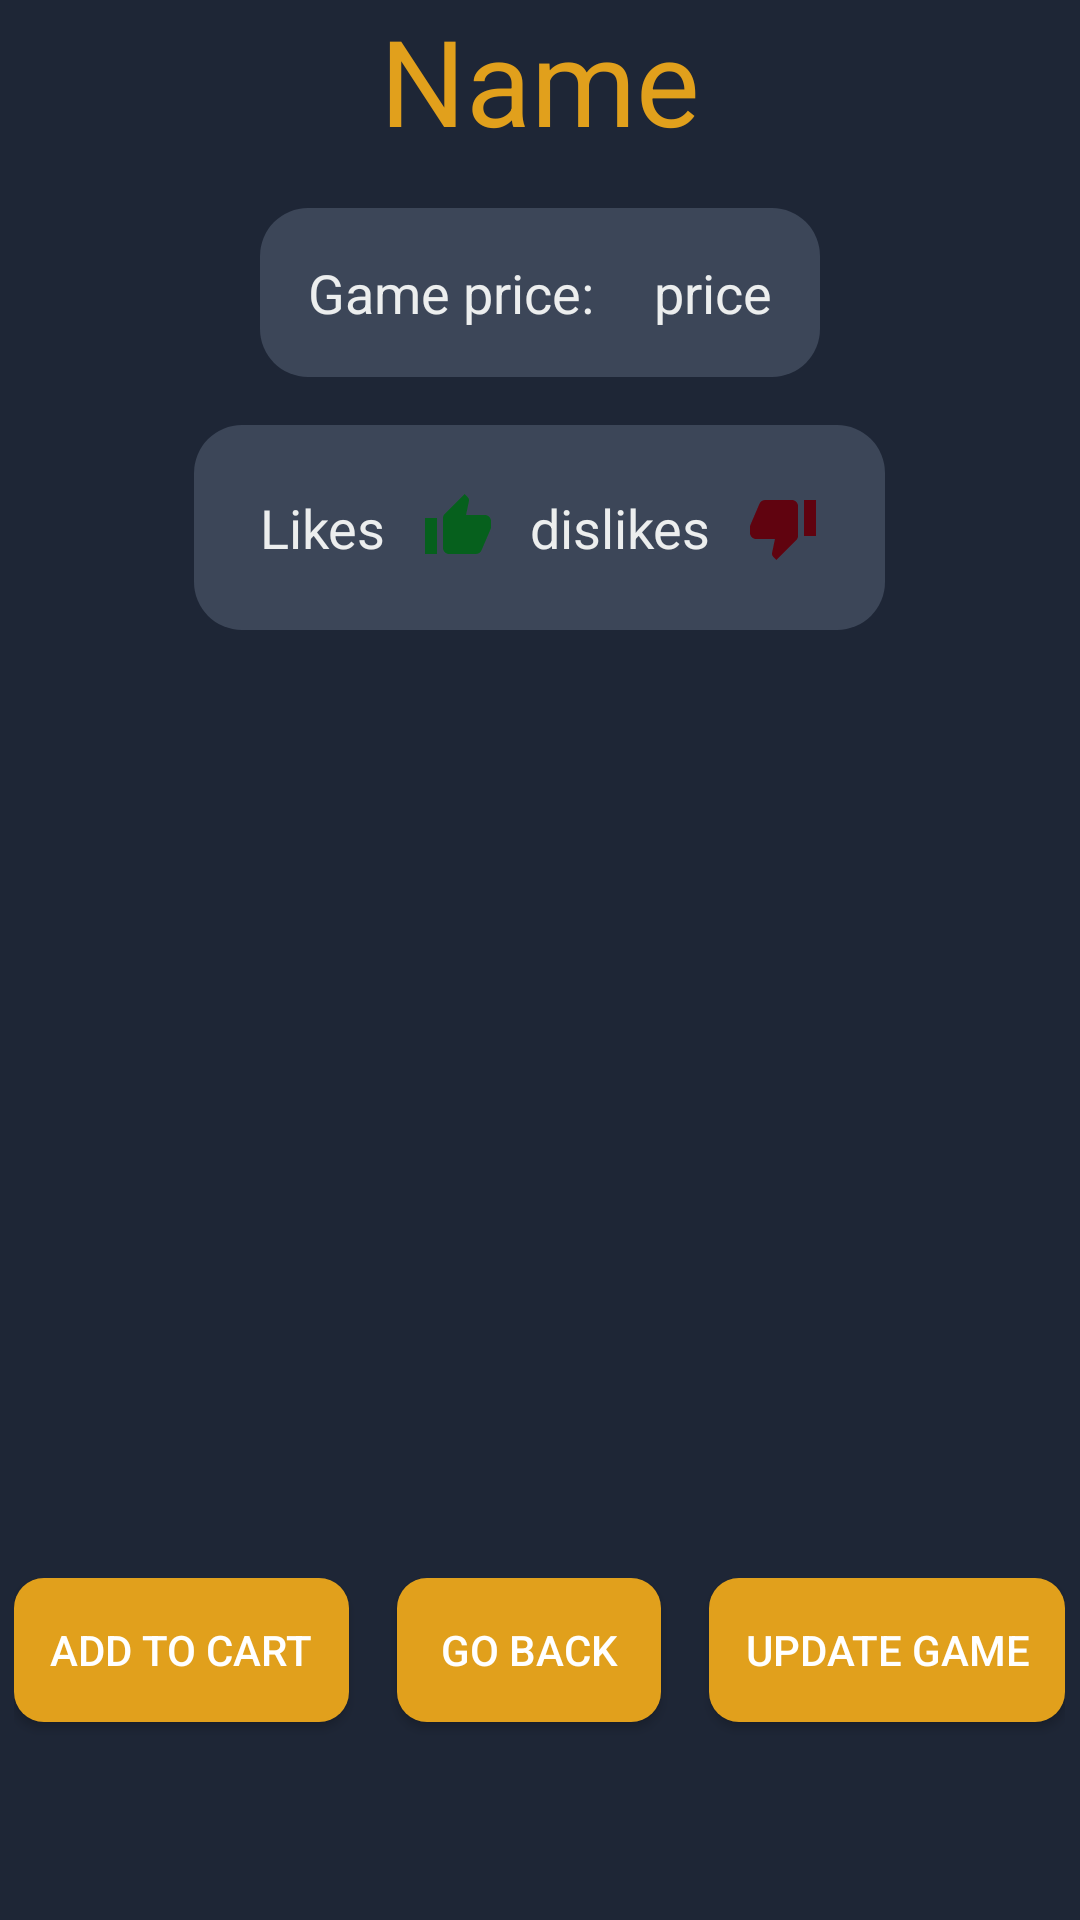

Named icons in this screenshot (1080*1920) and their bounding boxes, BBox(x1, y1, x2, y2):
dislike press: BBox(750, 500, 816, 560)
like press: BBox(425, 494, 491, 554)
